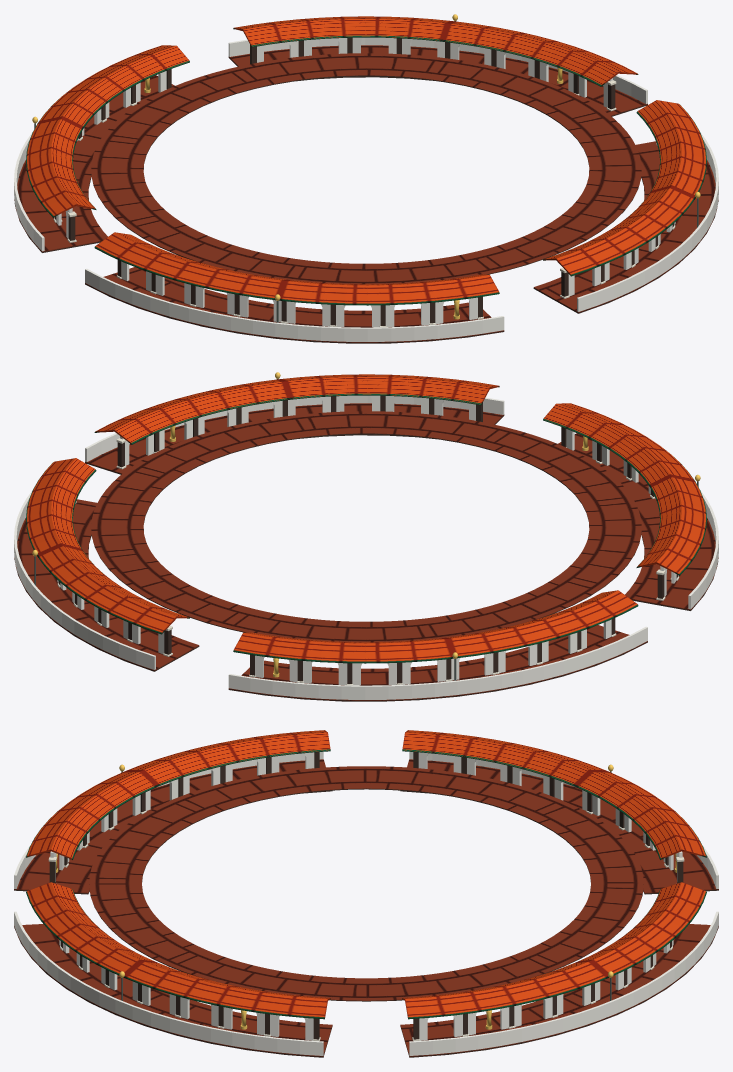
File: HNP_TempleSurroundings_v009.fbx
3 views of the same model, one above another, from view 1: azimuth 30°, elevation 25°; view 2: azimuth 150°, elevation 25°; view 3: azimuth 270°, elevation 25° (orthographic).
Parts seen in each view (by area): view 1: HNP_TempleSurroundings_v009_HNP009_Paving, HNP_TempleSurroundings_v009_HNP009_RoofOrange, HNP_TempleSurroundings_v009_HNP009_White, HNP_TempleSurroundings_v009_HNP009_RoofGreen, COLL_ArcadeColumns, COLL_LowerCourt, COLL_UpperWalk; view 2: HNP_TempleSurroundings_v009_HNP009_Paving, HNP_TempleSurroundings_v009_HNP009_RoofOrange, HNP_TempleSurroundings_v009_HNP009_White, HNP_TempleSurroundings_v009_HNP009_RoofGreen, COLL_ArcadeColumns, COLL_LowerCourt, COLL_UpperWalk; view 3: HNP_TempleSurroundings_v009_HNP009_Paving, HNP_TempleSurroundings_v009_HNP009_RoofOrange, HNP_TempleSurroundings_v009_HNP009_White, HNP_TempleSurroundings_v009_HNP009_RoofGreen, COLL_ArcadeColumns, COLL_LowerCourt, COLL_UpperWalk.
Boxes of the visible parts, box(x1,y1,x2,y2) form: HNP_TempleSurroundings_v009_HNP009_Paving: box(14, 45, 718, 342); HNP_TempleSurroundings_v009_HNP009_RoofOrange: box(27, 16, 705, 303); HNP_TempleSurroundings_v009_HNP009_White: box(14, 37, 718, 341); HNP_TempleSurroundings_v009_HNP009_RoofGreen: box(26, 28, 706, 305); COLL_ArcadeColumns: box(55, 37, 674, 325); COLL_LowerCourt: box(14, 57, 718, 343); COLL_UpperWalk: box(91, 75, 638, 274); HNP_TempleSurroundings_v009_HNP009_Paving: box(14, 403, 718, 700); HNP_TempleSurroundings_v009_HNP009_RoofOrange: box(27, 374, 705, 661); HNP_TempleSurroundings_v009_HNP009_White: box(14, 395, 718, 699); HNP_TempleSurroundings_v009_HNP009_RoofGreen: box(26, 386, 706, 663); COLL_ArcadeColumns: box(58, 395, 677, 683); COLL_LowerCourt: box(14, 415, 718, 701); COLL_UpperWalk: box(94, 433, 641, 632); HNP_TempleSurroundings_v009_HNP009_Paving: box(14, 759, 718, 1056); HNP_TempleSurroundings_v009_HNP009_RoofOrange: box(27, 730, 705, 1017); HNP_TempleSurroundings_v009_HNP009_White: box(14, 751, 718, 1055); HNP_TempleSurroundings_v009_HNP009_RoofGreen: box(26, 749, 706, 1019); COLL_ArcadeColumns: box(49, 752, 683, 1039); COLL_LowerCourt: box(14, 790, 718, 1057); COLL_UpperWalk: box(90, 788, 642, 1001).
Size of the model in its own units: 73.45 by 4.98 by 73.45.
Materials: 8 (3 with a texture image).
